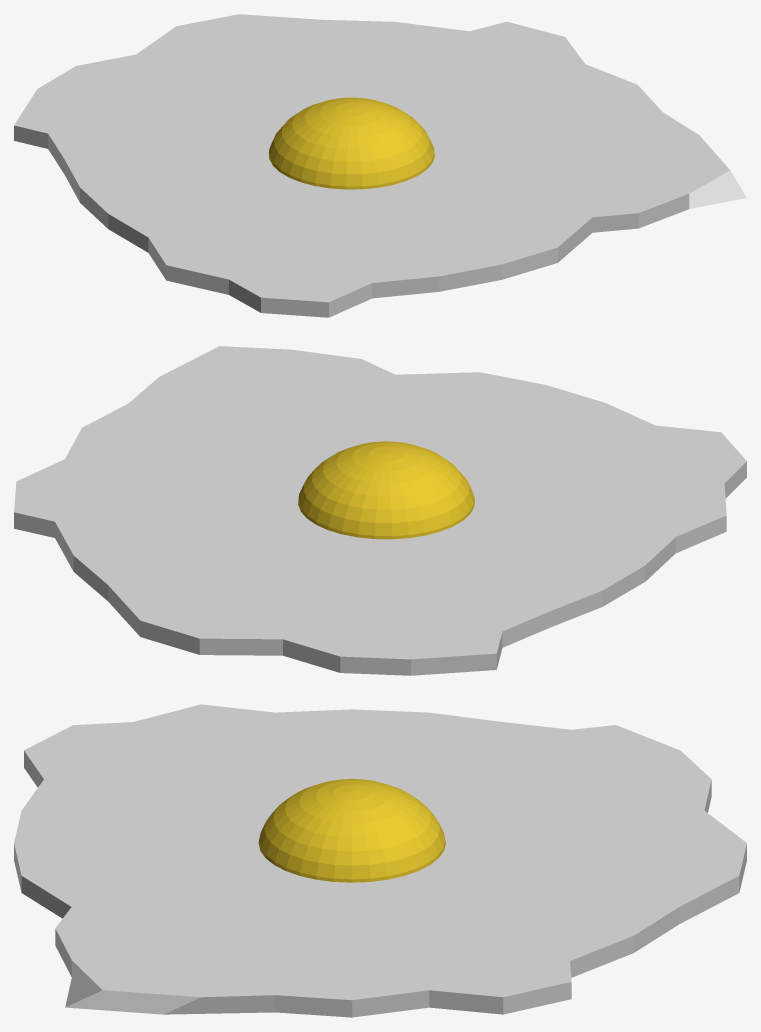
File: Telur Pecah.fbx
3 views of the same model, one above another, from view 1: azimuth 30°, elevation 25°; view 2: azimuth 150°, elevation 25°; view 3: azimuth 270°, elevation 25° (orthographic). The views are drawn at different scales.
Parts seen in each view (by area): view 1: Cylinder, Sphere; view 2: Cylinder, Sphere; view 3: Cylinder, Sphere.
Part boxes in pixels (x1,y1,x2,y2): Cylinder: (14, 14, 746, 317); Sphere: (268, 97, 434, 189); Cylinder: (14, 346, 746, 675); Sphere: (298, 441, 474, 539); Cylinder: (14, 704, 746, 1017); Sphere: (258, 779, 445, 882).
Bounding box in the file's own units: 177 × 20.28 × 186.
